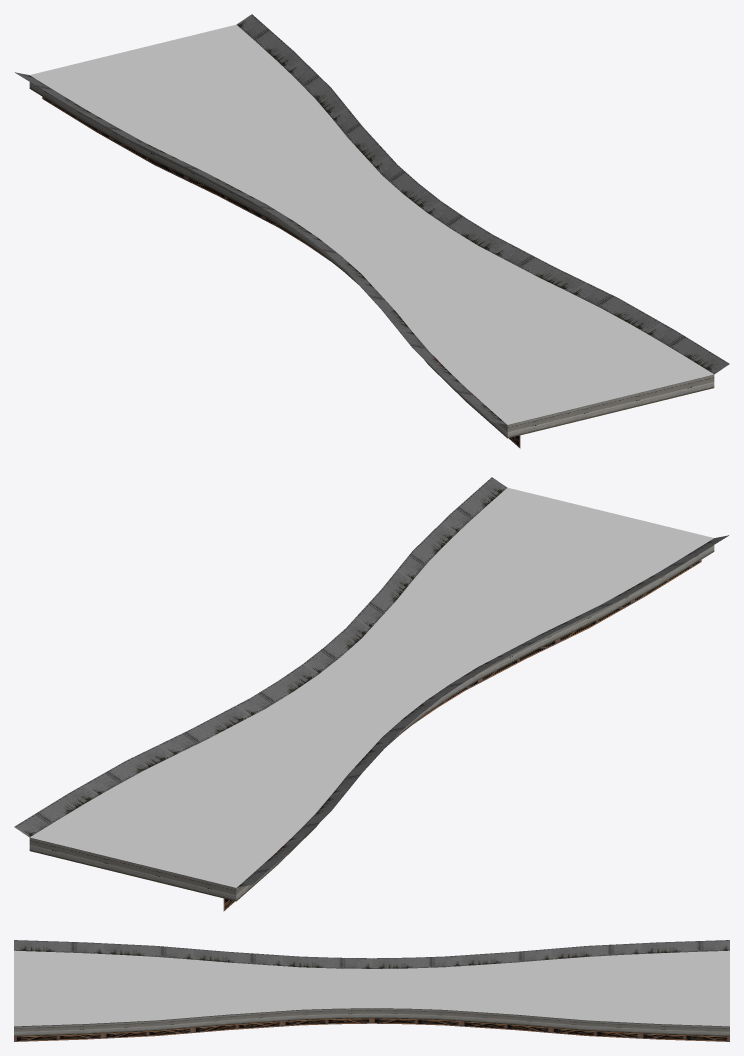
The model's file is Chicane.fbx.
3 renders of one model, top to bottom at view 1: azimuth 30°, elevation 25°; view 2: azimuth 150°, elevation 25°; view 3: azimuth 270°, elevation 25°, orthographic. The views are drawn at different scales.
Parts seen in each view (by area): view 1: Empty_Mesh; view 2: Empty_Mesh; view 3: Empty_Mesh.
Boxes of the visible parts, x1,y1,x2,y2 form: Empty_Mesh: (15,14,729,448); Empty_Mesh: (14,477,728,911); Empty_Mesh: (14,940,729,1041).
Size of the model in its own units: 18.4 by 2.5 by 64.
